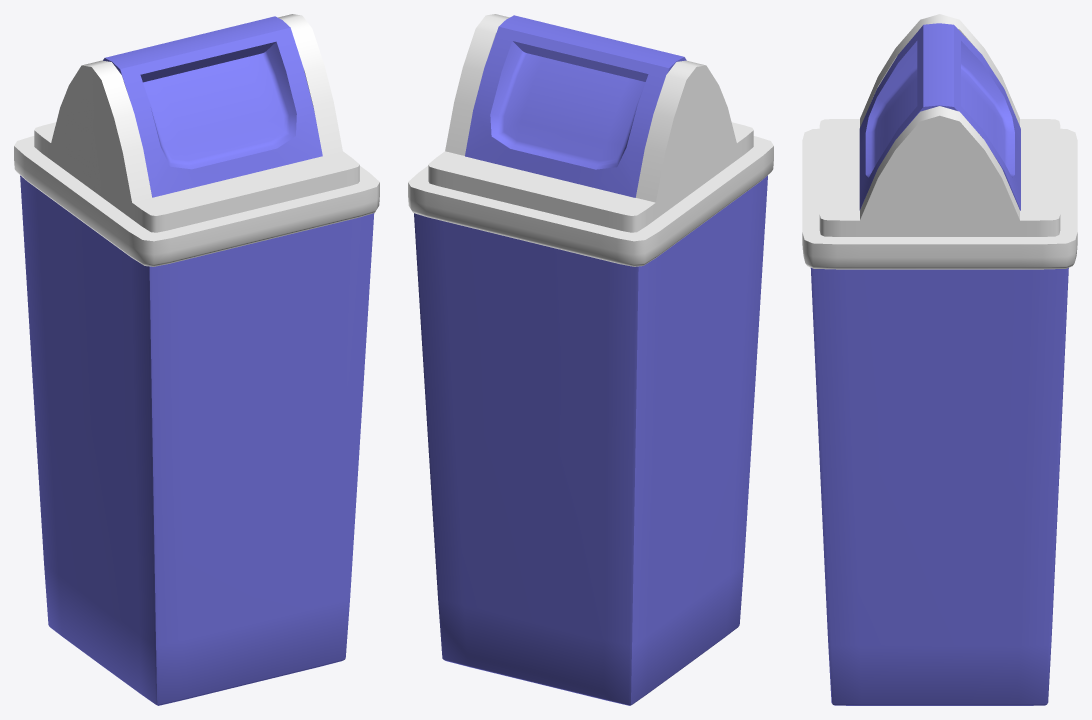
The model's file is TrashCan1.fbx.
3 views of the same model, side by side, from view 1: azimuth 30°, elevation 25°; view 2: azimuth 150°, elevation 25°; view 3: azimuth 270°, elevation 25° (orthographic).
Parts seen in each view (by area): view 1: Object007; view 2: Object007; view 3: Object007.
Boxes of the visible parts, box(x1,y1,x2,y2) form: Object007: box(14, 14, 379, 705); Object007: box(408, 14, 773, 705); Object007: box(802, 14, 1077, 705).
Size of the model in its own units: 42 by 101 by 42.
